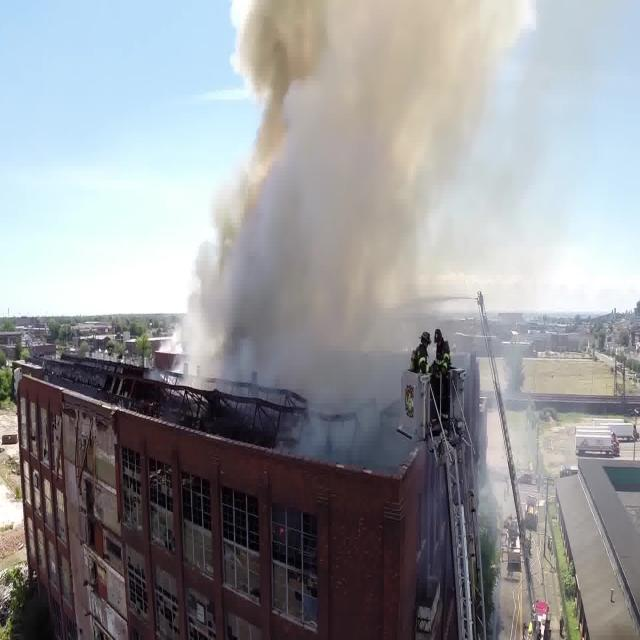Smoke: (192, 0, 488, 393)
